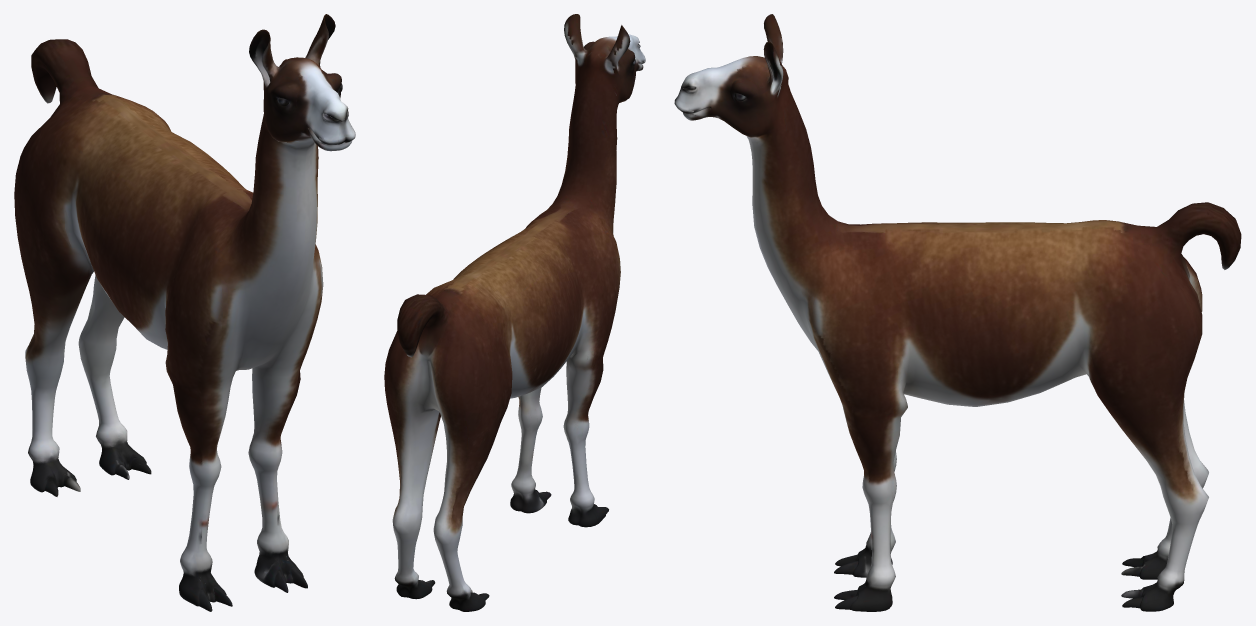
Rendered from alpaca.glb.
3 views of the same model, side by side, from view 1: azimuth 30°, elevation 25°; view 2: azimuth 150°, elevation 25°; view 3: azimuth 270°, elevation 25° (orthographic). The views are drawn at different scales.
Visible parts, largest first — view 1: Body_01; view 2: Body_01; view 3: Body_01.
Part boxes in pixels (<box>): Body_01: <box>14,14,355,611</box>; Body_01: <box>384,14,645,611</box>; Body_01: <box>674,14,1241,611</box>.
Bounding box in the file's own units: 0.2364 × 1 × 0.9172.
Materials: 1 (1 with a texture image).
